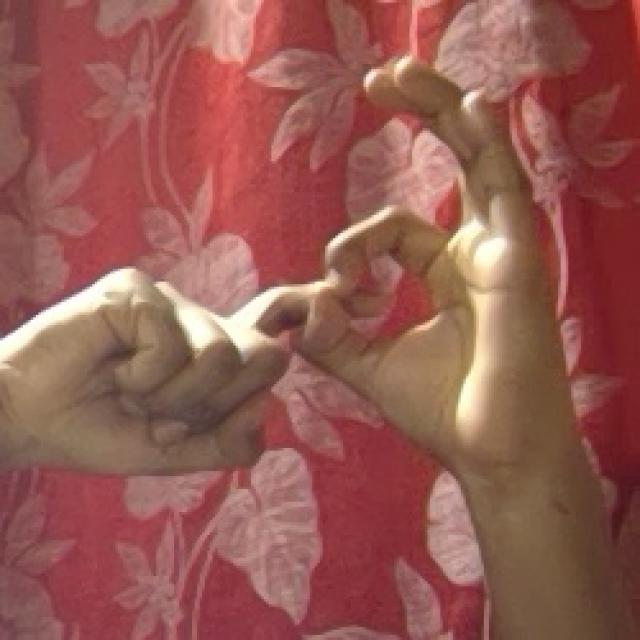Alphabet-Q: (25, 49, 567, 558)
